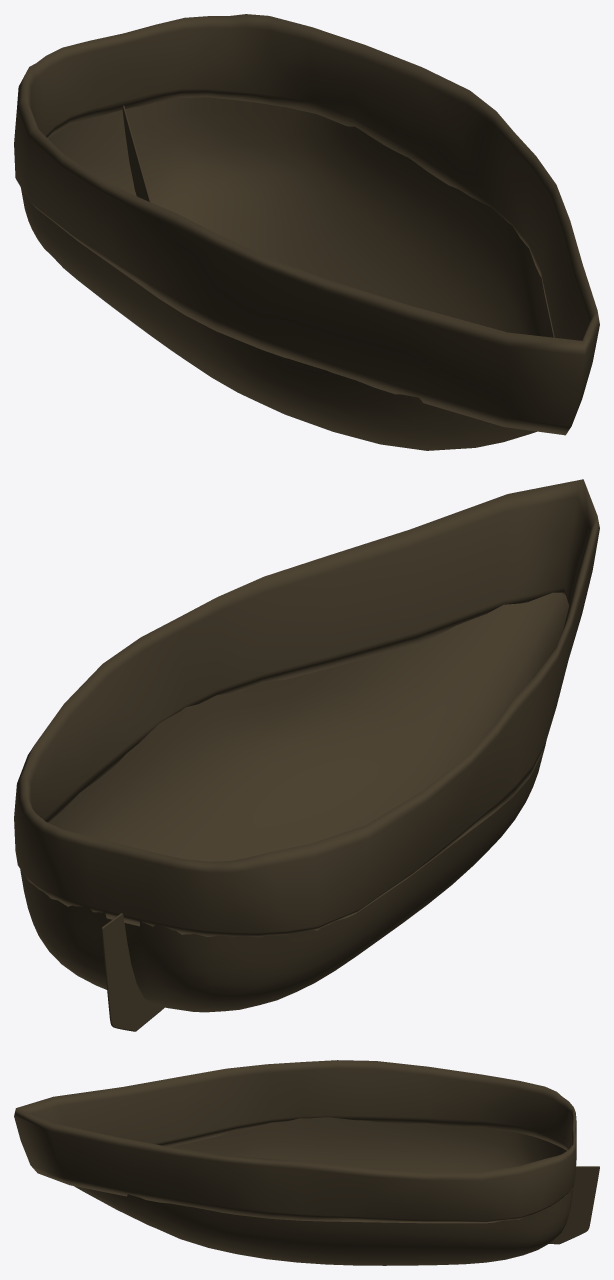
Rendered from boatBase.fbx.
3 renders of one model, top to bottom at view 1: azimuth 30°, elevation 25°; view 2: azimuth 150°, elevation 25°; view 3: azimuth 270°, elevation 25°, orthographic. The views are drawn at different scales.
Parts seen in each view (by area): view 1: s.1359, s.1357, s.1457; view 2: s.1359, s.1357, s.1457_Mirrored, s.1457; view 3: s.1359, s.1357, s.1457, s.1457_Mirrored.
Boxes of the visible parts, <box> form: s.1359: <box>14,14,599,435</box>; s.1357: <box>21,97,553,450</box>; s.1457: <box>122,105,150,201</box>; s.1359: <box>14,479,599,937</box>; s.1357: <box>20,592,568,1012</box>; s.1457_Mirrored: <box>101,914,160,1031</box>; s.1457: <box>102,913,164,1031</box>; s.1359: <box>14,1060,576,1223</box>; s.1357: <box>74,1117,573,1265</box>; s.1457: <box>549,1166,599,1244</box>; s.1457_Mirrored: <box>549,1166,599,1244</box>.
Size of the model in its own units: 3.58 by 2.23 by 8.12.
